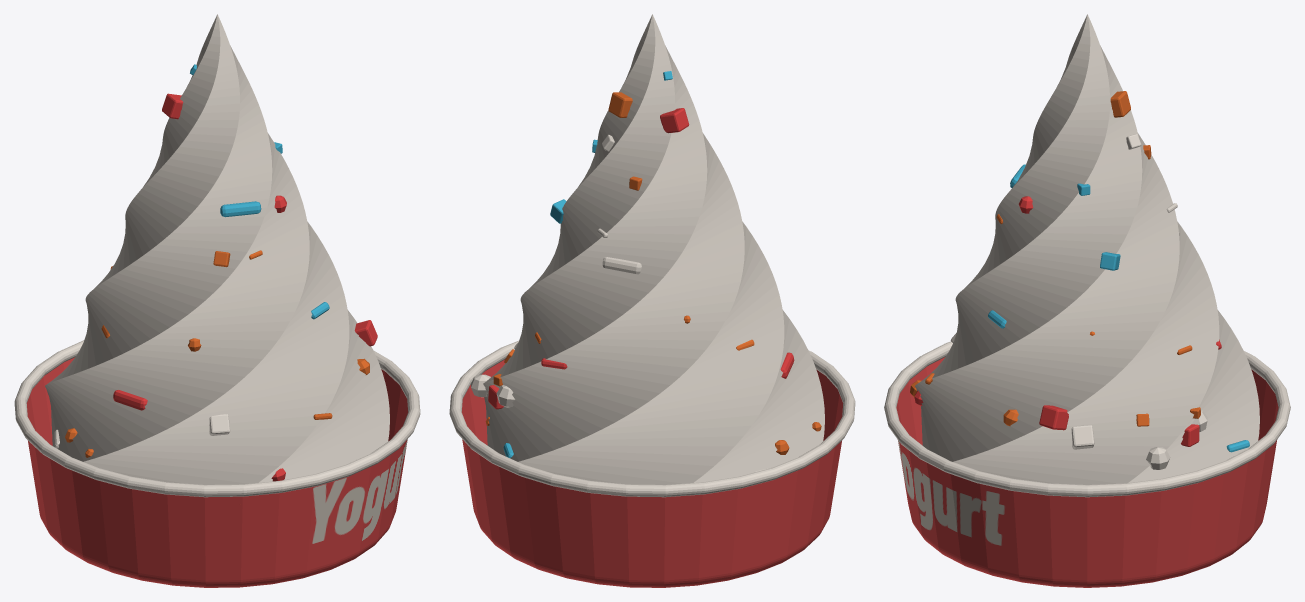
File: Yogurt.FBX
3 renders of one model, left to right at view 1: azimuth 30°, elevation 25°; view 2: azimuth 150°, elevation 25°; view 3: azimuth 270°, elevation 25°, orthographic.
Parts seen in each view (by area): view 1: Yogurt; view 2: Yogurt; view 3: Yogurt.
Boxes of the visible parts, <box> form: Yogurt: <box>14,14,420,587</box>; Yogurt: <box>449,14,855,587</box>; Yogurt: <box>884,14,1290,587</box>.
Bounding box in the file's own units: 142 × 194 × 142.
